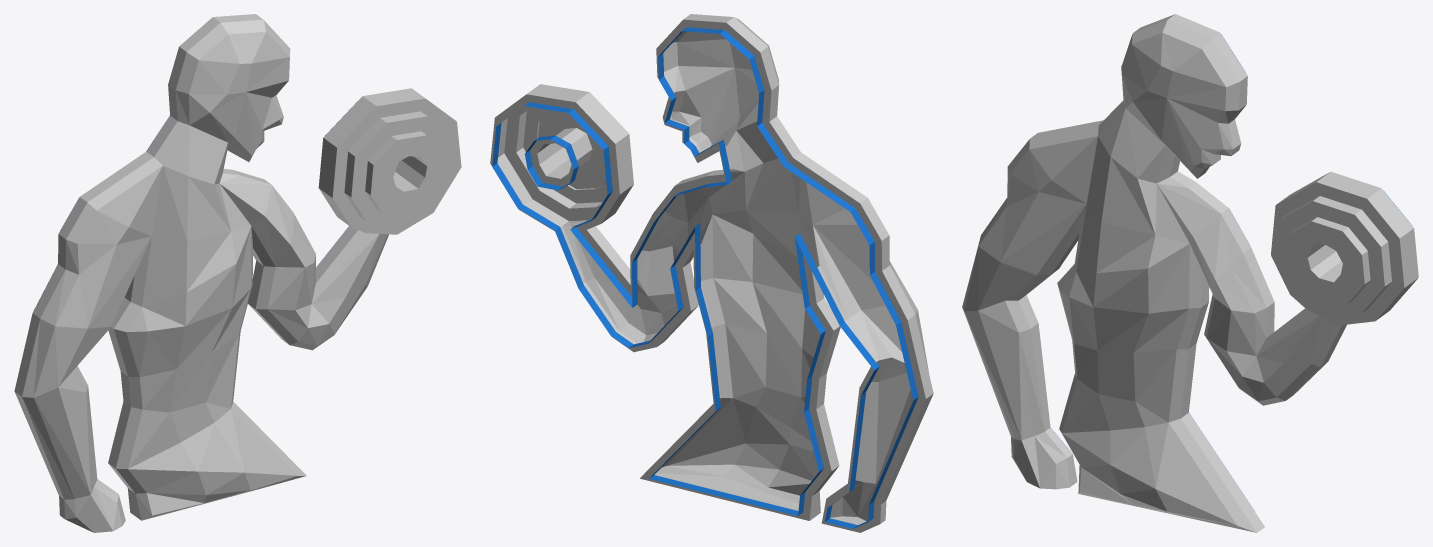
File: SM_athlete.fbx
3 renders of one model, left to right at view 1: azimuth 30°, elevation 25°; view 2: azimuth 150°, elevation 25°; view 3: azimuth 330°, elevation 25°, orthographic. The views are drawn at different scales.
Parts seen in each view (by area): view 1: athlete; view 2: athlete; view 3: athlete.
Part boxes in pixels (<box>): athlete: <box>14,14,461,532</box>; athlete: <box>490,14,933,532</box>; athlete: <box>962,14,1418,532</box>.
Size of the model in its own units: 163 by 171 by 20.59.
